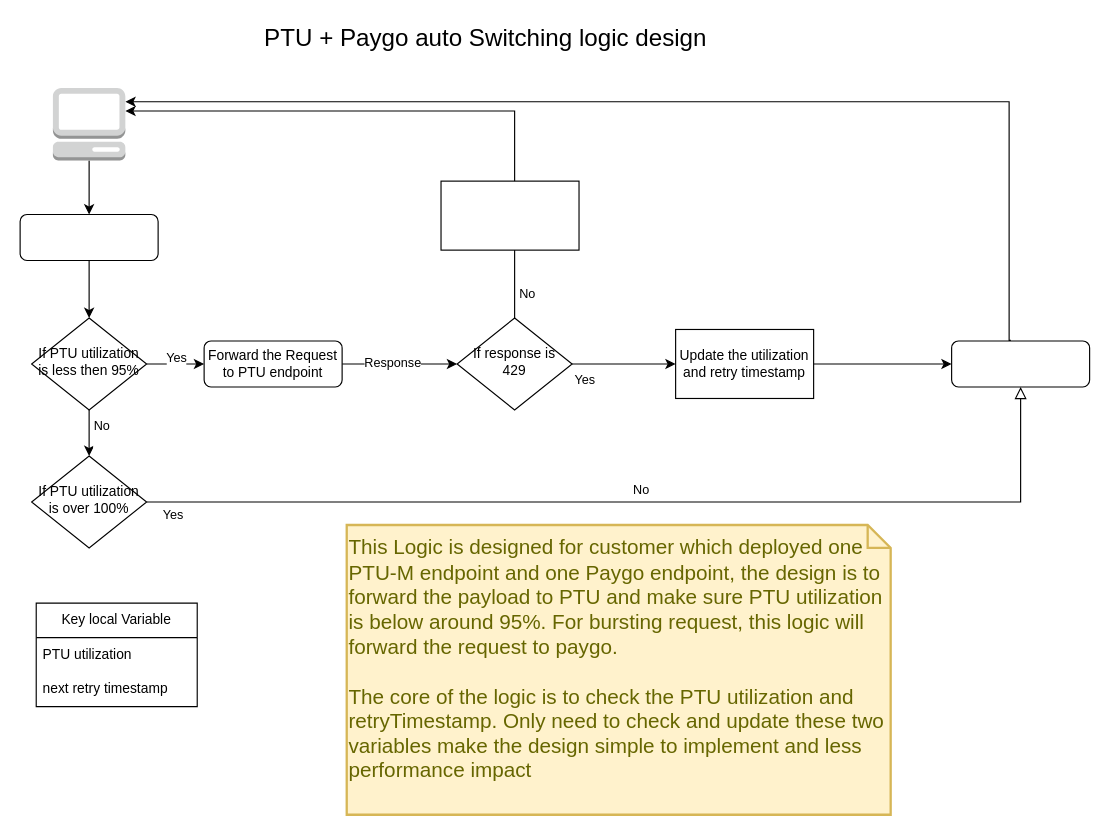
This 1110x835 diagram has some shape labels left out. The centre of each missing label's shape, as x and y in pixels:
Forward the Request to Paygo endpoint: (1020,363)
Input Request: (88,236)
Update the utilization: (509,215)
